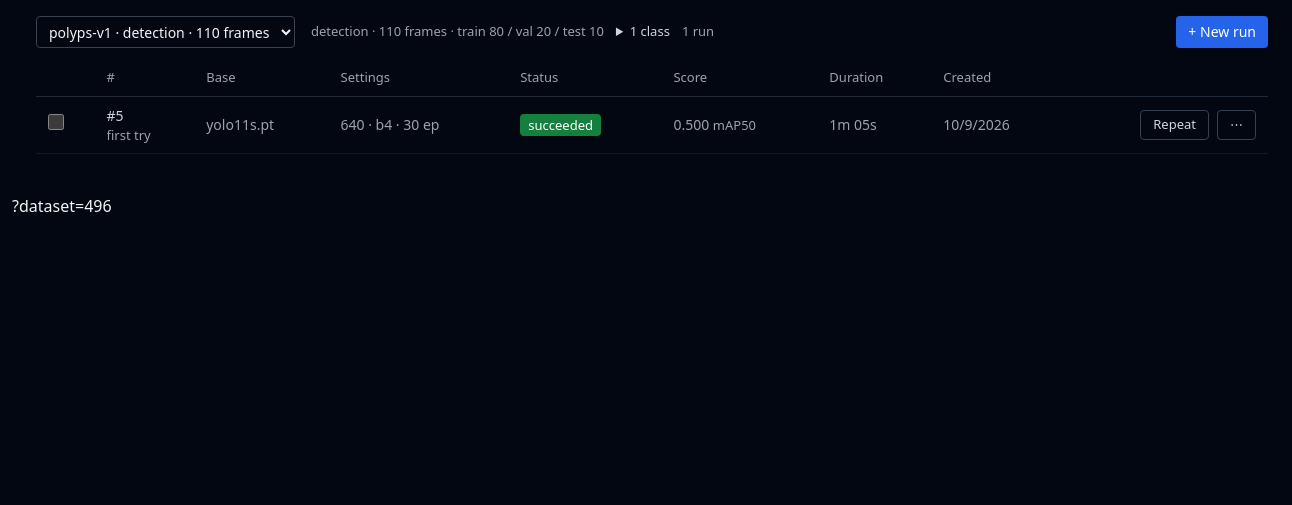
Scenario: TrainPage › New run tab › repeat with changes on the selected dataset shows the run's base and settings, starting nothing
This screenshot has width=1292, height=505.
Click the button with aria-label "Repeat run 5 with changes": (1175, 125) [1140,110,1209,140]
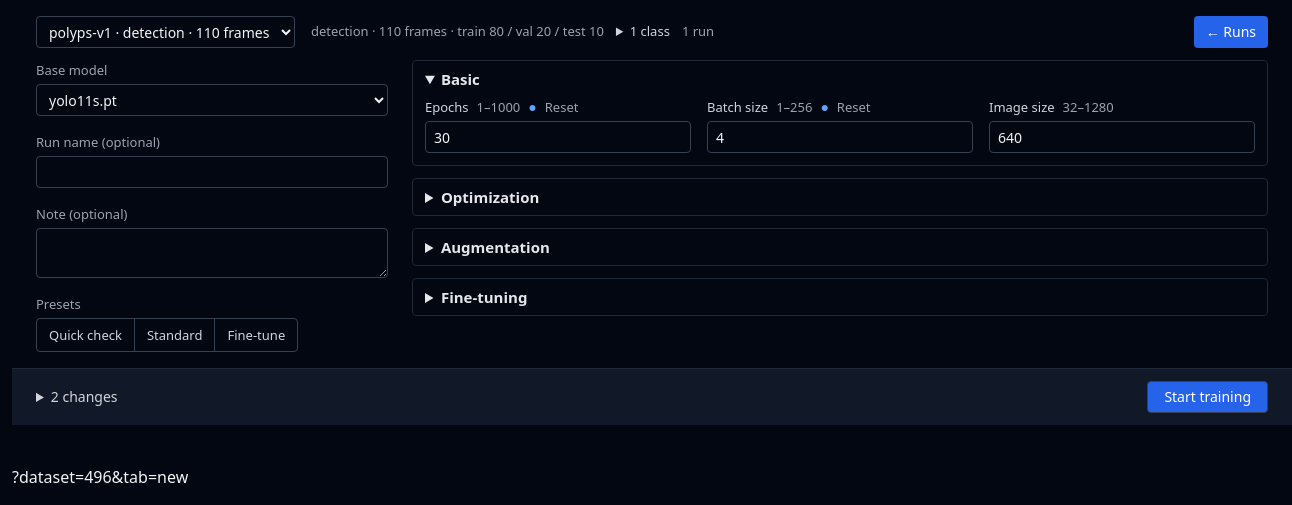
Now the text with test id "where" reads "?dataset=496&tab=new", box [12,466,188,488]
Now the number field labelled "Epochs" holds "30", box [425,121,691,153]
Now the dropdown labelled "Base model" shows "yolo11s.pt", box [36,84,388,116]
